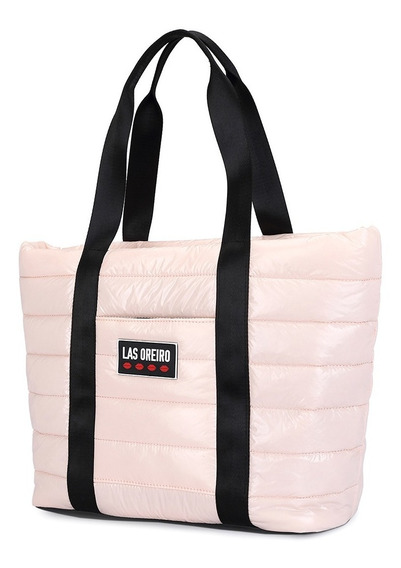cartera: (19, 28, 383, 535)
